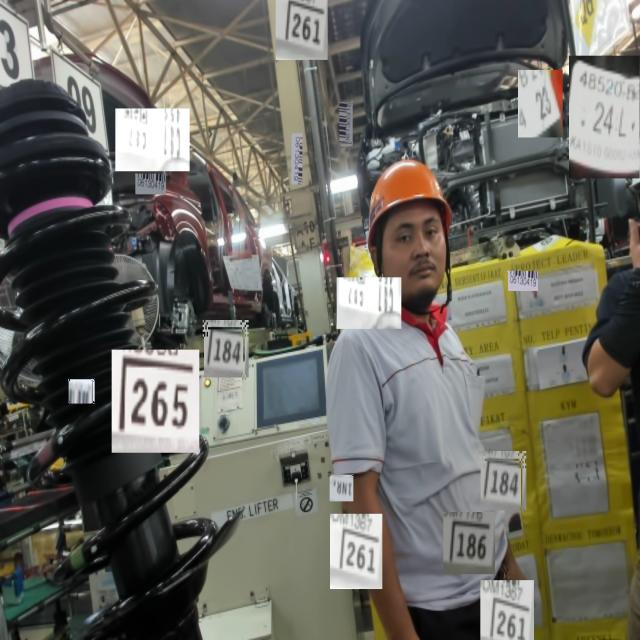Absorber LH-23: (530, 83, 554, 124)
Absorber LH-24: (591, 95, 631, 146)
Bumper-PK: (6, 187, 98, 243)
Engine Assy-184: (212, 331, 242, 371), (489, 464, 518, 501)
Engine Assy-186: (448, 517, 492, 568)
Engine Assy-261: (338, 526, 380, 580), (284, 1, 324, 53), (488, 593, 530, 640)
Engine Assy-265: (117, 354, 192, 438)
Transaxele-C87-A27: (124, 127, 184, 161), (344, 285, 398, 320)
